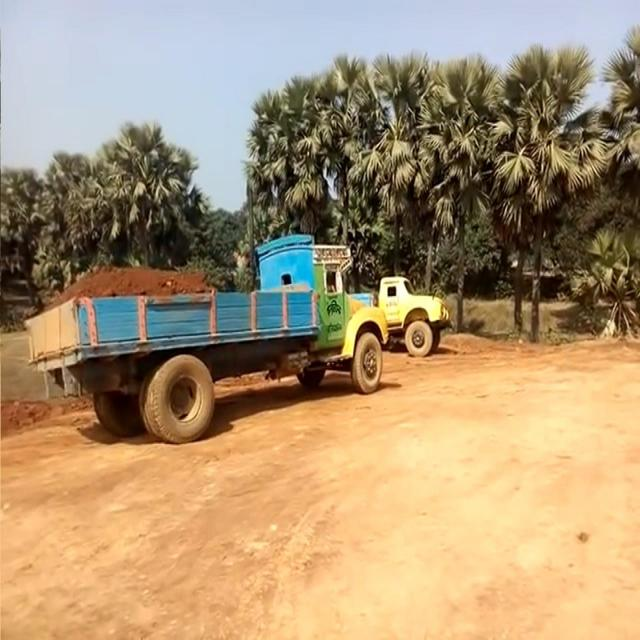truck: (24, 228, 386, 442), (380, 265, 453, 362)
